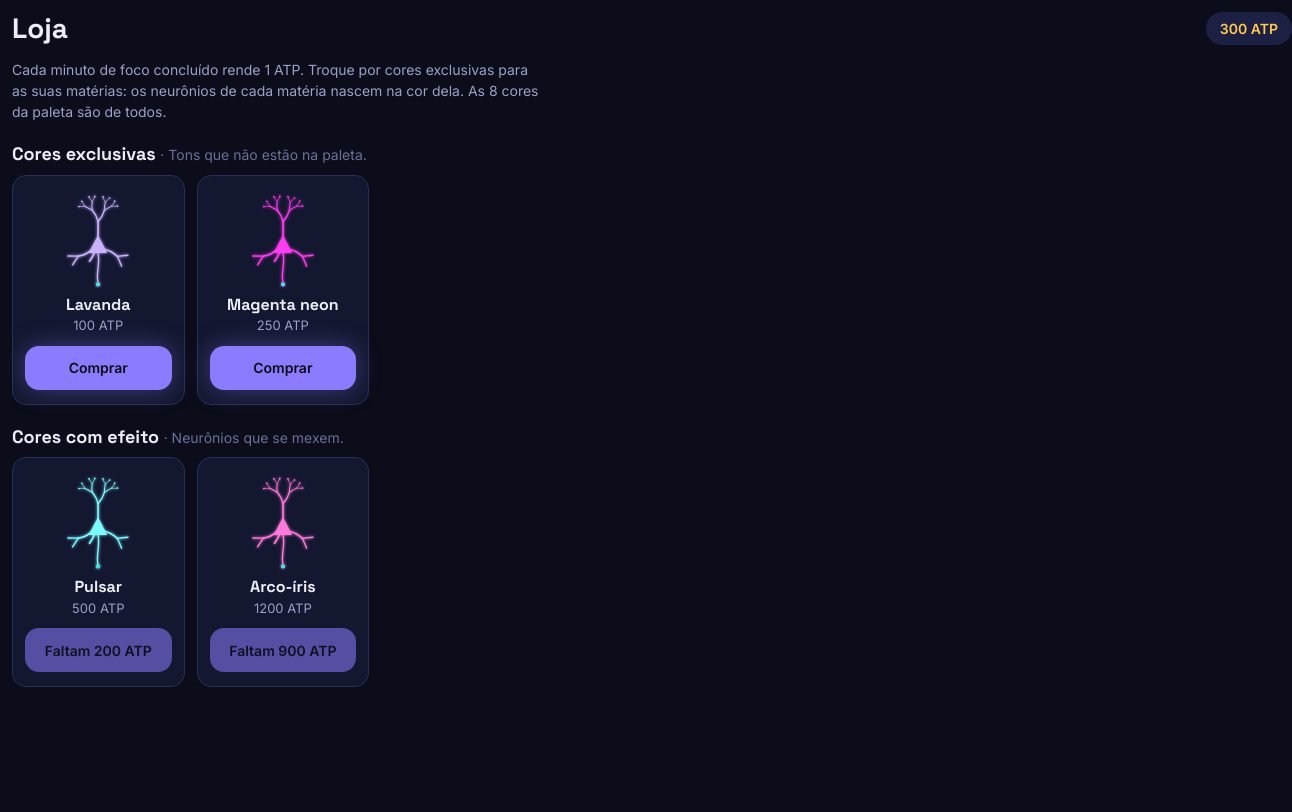
Scenario: tela da loja › cancelar a confirmação não compra nada
The width and height of the screenshot is (1292, 812).
Expected: the text named "Saldo: 300 ATP" is shown, [1206,12,1291,45]
Click the button with aria-label "Comprar a cor Lavanda por 100 ATP" at (98, 368), box [25,346,172,390]
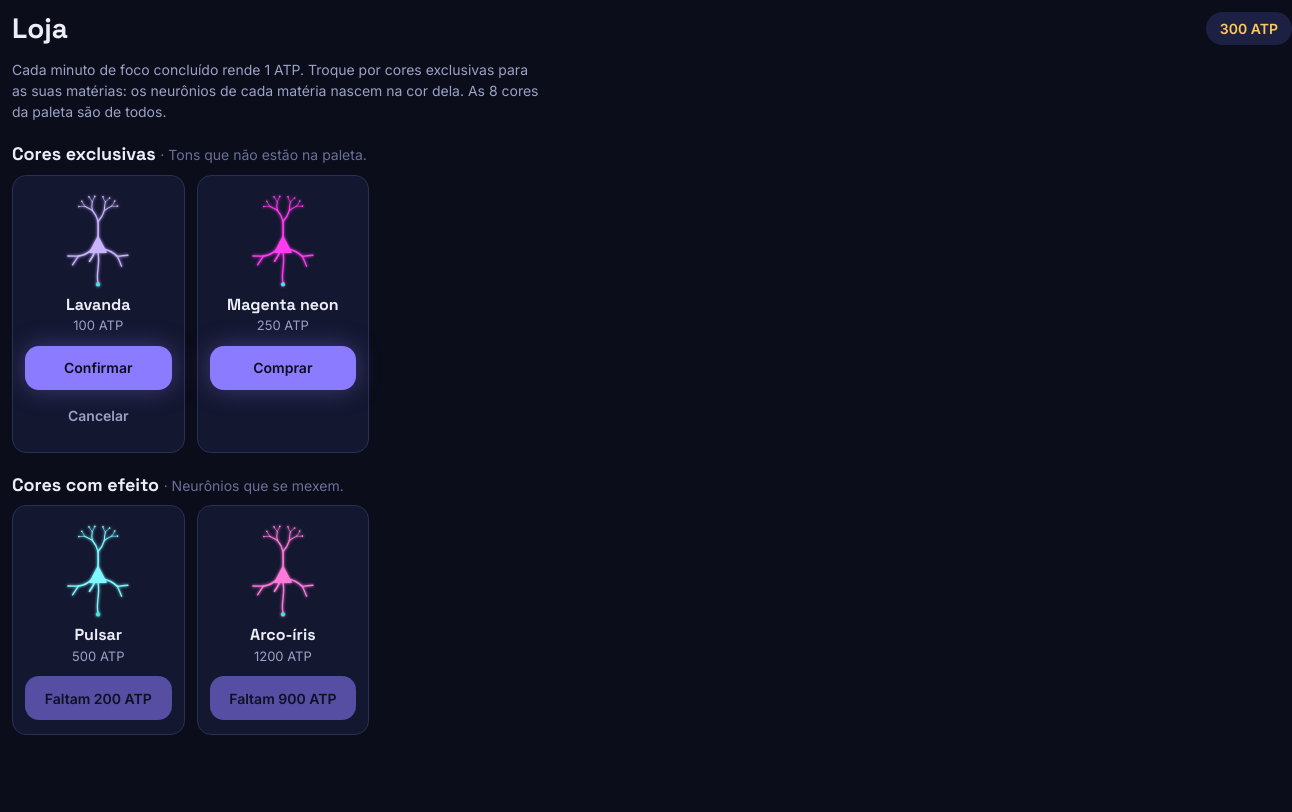
Click the button "Cancelar" at (98, 416), box [25,394,172,438]
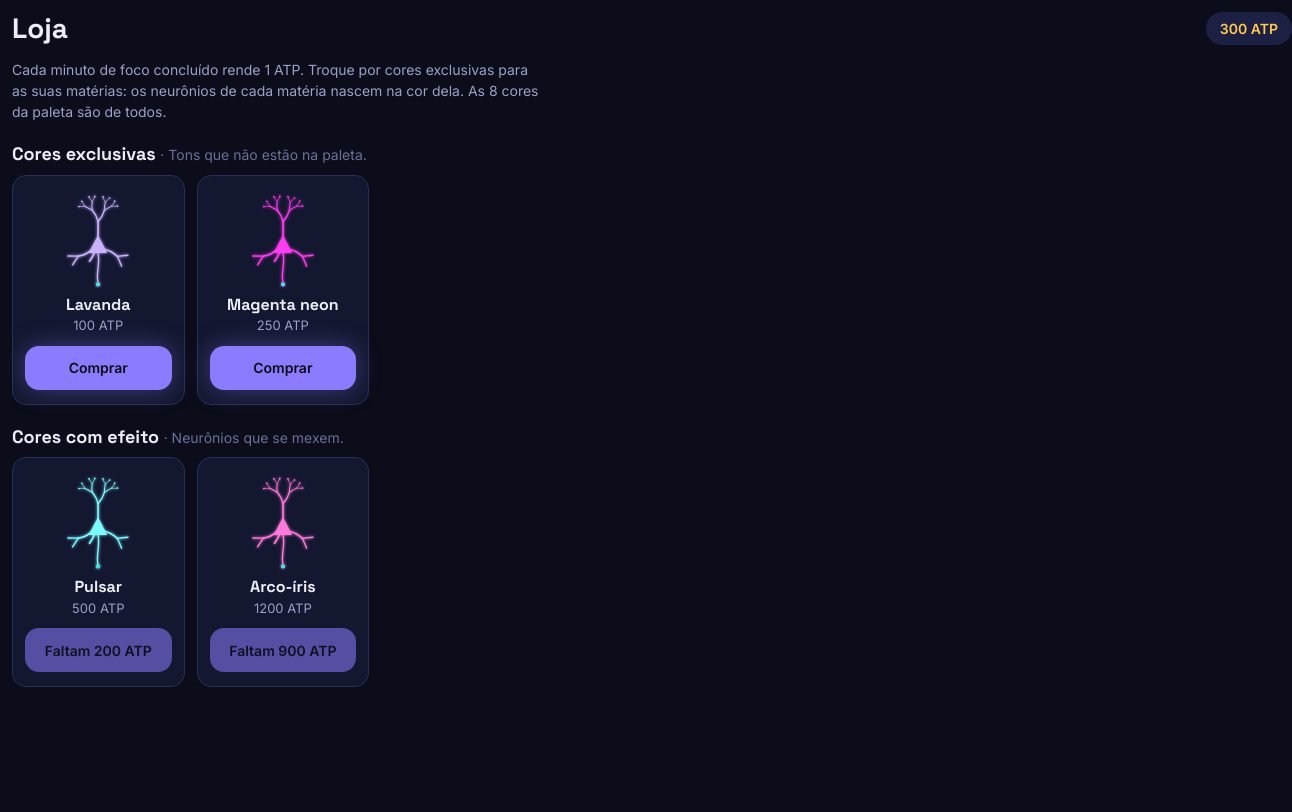
Expected: the button with aria-label "Comprar a cor Lavanda por 100 ATP" is enabled, [25,346,172,390]
